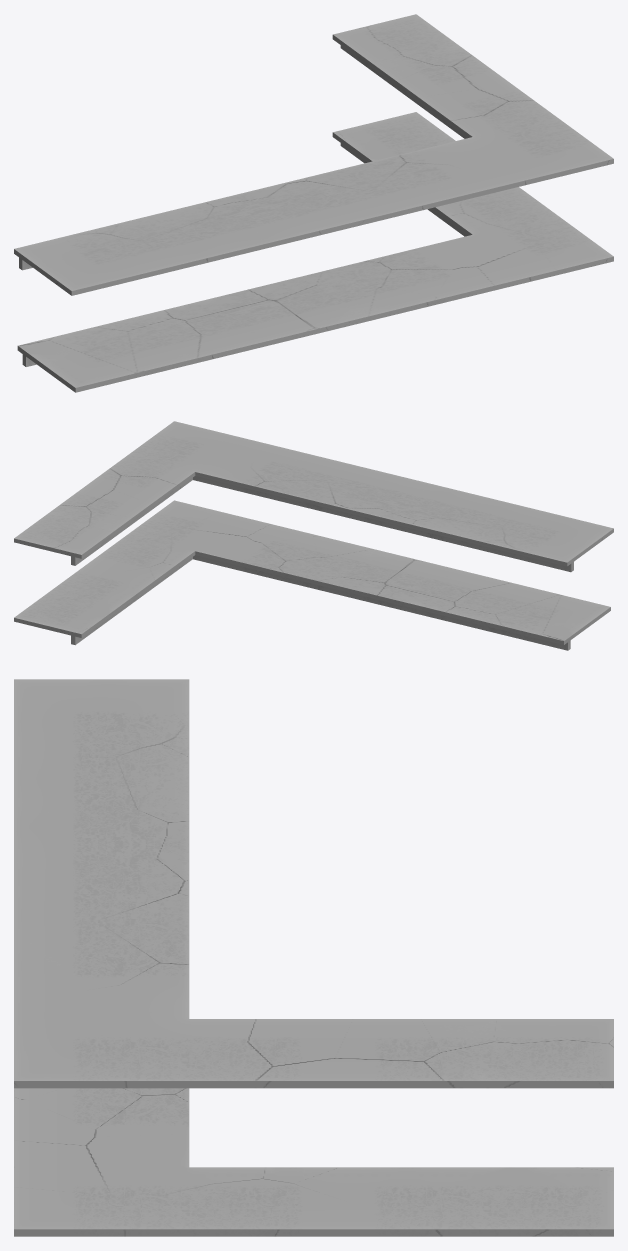
File: Floor_2nd.fbx
3 renders of one model, top to bottom at view 1: azimuth 30°, elevation 25°; view 2: azimuth 150°, elevation 25°; view 3: azimuth 270°, elevation 25°, orthographic. The views are drawn at different scales.
Visible parts, largest first — view 1: Floor_2nd; view 2: Floor_2nd; view 3: Floor_2nd.
Part boxes in pixels (x1,y1,x2,y2): Floor_2nd: [14, 14, 613, 392]; Floor_2nd: [14, 421, 613, 650]; Floor_2nd: [14, 679, 613, 1236].
Size of the model in its own units: 28.61 by 18.07 by 5.71.
Materials: 1 (1 with a texture image).
